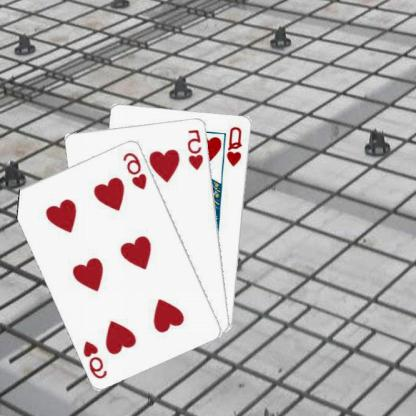5H: (187, 127, 207, 171)
6H: (82, 338, 110, 380), (122, 150, 150, 190)
QH: (226, 124, 246, 167)
